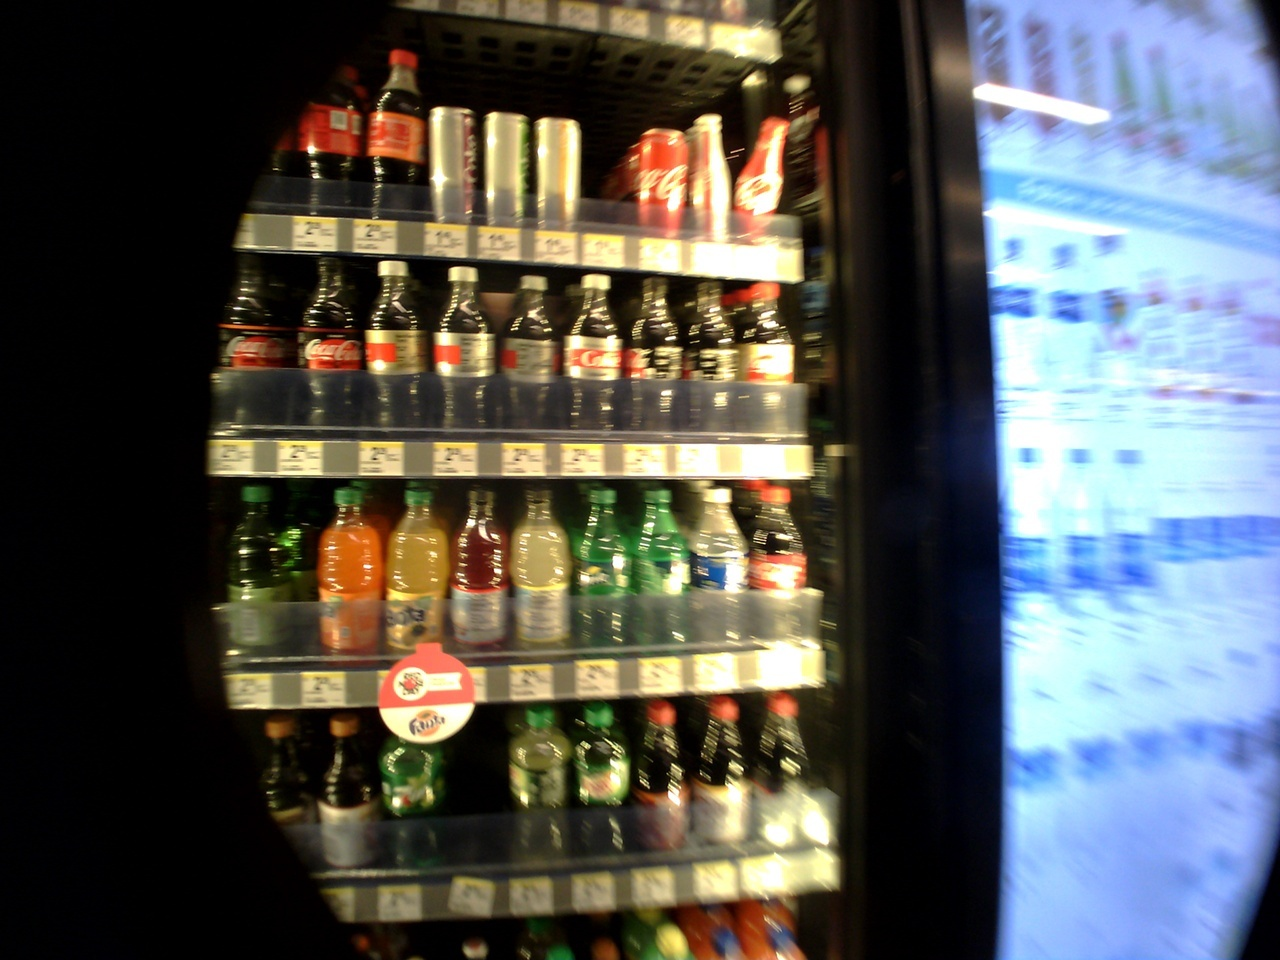shelf: (194, 24, 797, 282), (195, 252, 808, 480), (188, 478, 821, 689), (196, 699, 836, 892)
